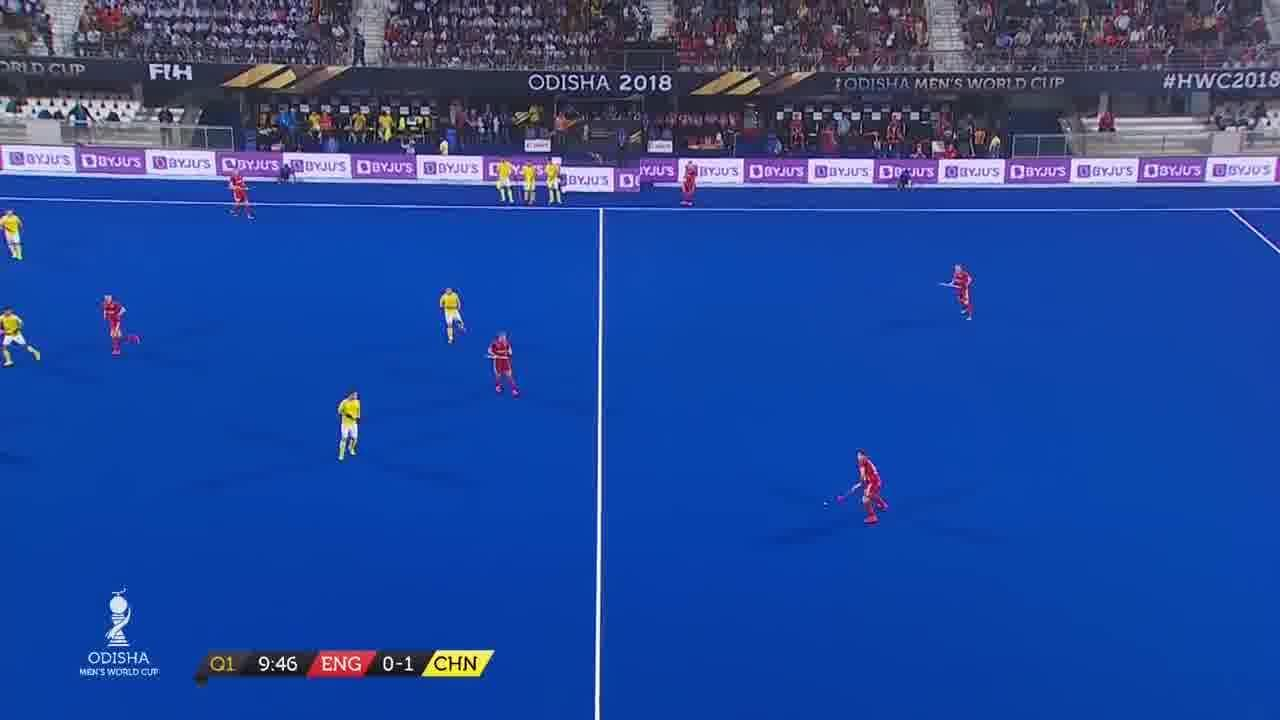ball: (820, 494, 842, 518)
